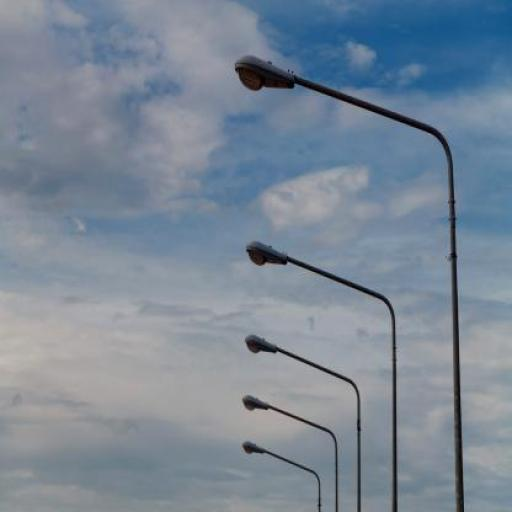street light: (234, 55, 464, 512), (245, 240, 399, 511), (245, 333, 362, 512), (243, 392, 339, 512), (242, 442, 322, 511)
